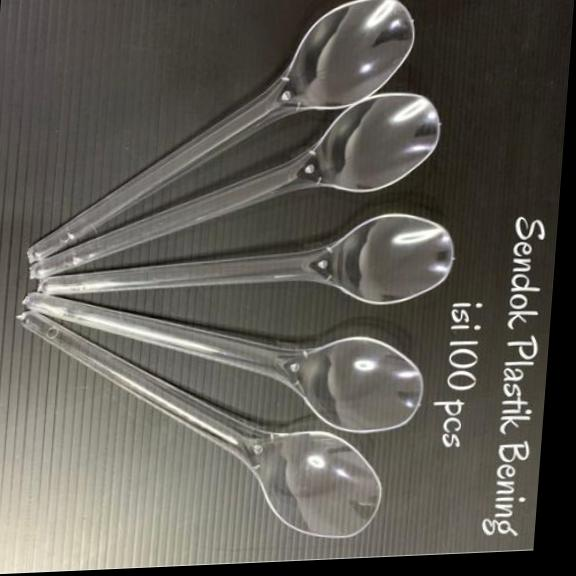Plastik: (28, 0, 413, 262), (18, 312, 380, 538), (30, 93, 438, 279), (22, 292, 422, 433), (37, 214, 452, 304)
